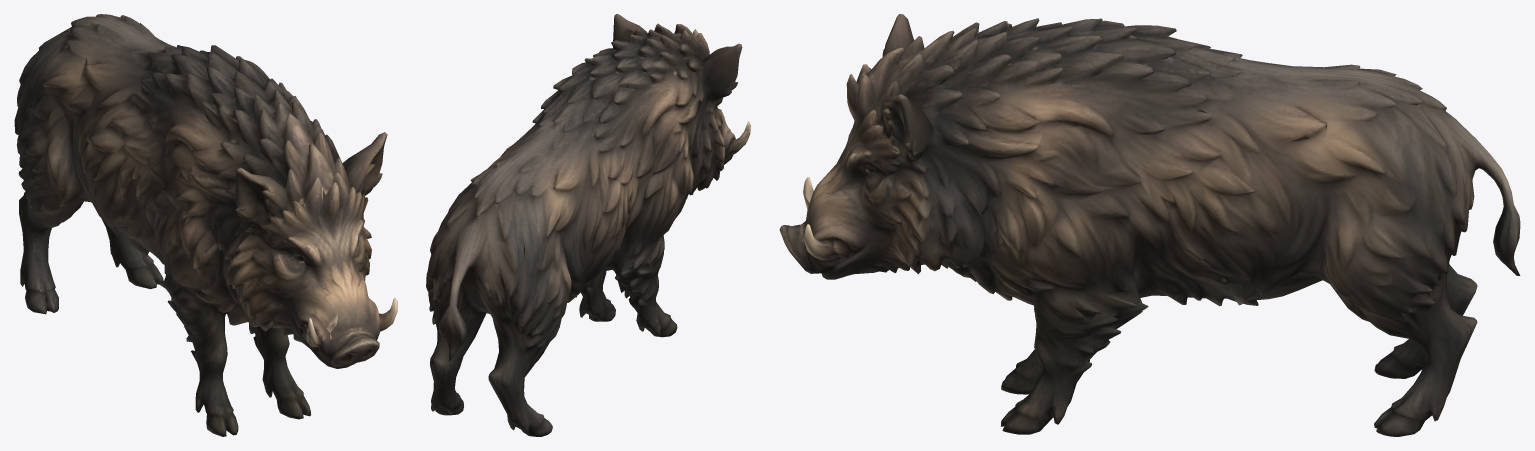
Rendered from Boar_clean.glb.
3 views of the same model, side by side, from view 1: azimuth 30°, elevation 25°; view 2: azimuth 150°, elevation 25°; view 3: azimuth 270°, elevation 25° (orthographic). The views are drawn at different scales.
Parts seen in each view (by area): view 1: Boar; view 2: Boar; view 3: Boar.
Part boxes in pixels (bbox=[...]): Boar: bbox=[14, 14, 397, 436]; Boar: bbox=[426, 14, 750, 436]; Boar: bbox=[779, 14, 1520, 436].
Size of the model in its own units: 0.5094 by 1.08 by 1.9.
Materials: 1 (1 with a texture image).
